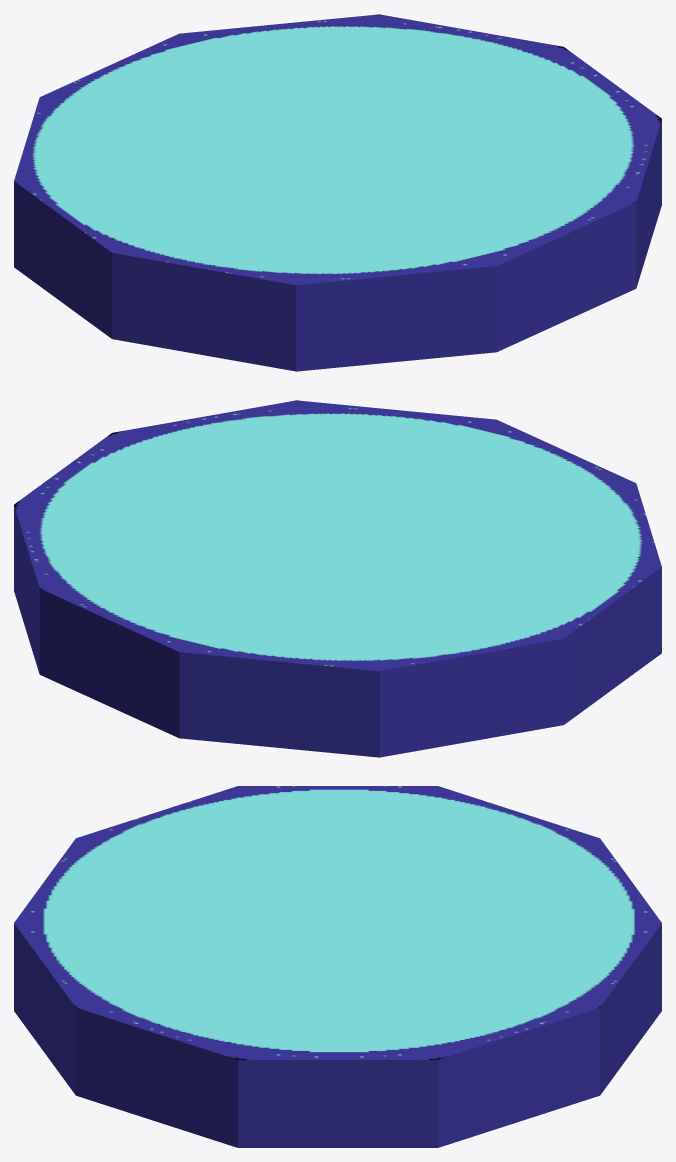
File: carrom_piece_striker.glb
3 views of the same model, one above another, from view 1: azimuth 30°, elevation 25°; view 2: azimuth 150°, elevation 25°; view 3: azimuth 270°, elevation 25° (orthographic). The views are drawn at different scales.
Parts seen in each view (by area): view 1: Cylinder; view 2: Cylinder; view 3: Cylinder.
Part boxes in pixels (x1=…): Cylinder: x1=14, y1=14, x2=661, y2=371; Cylinder: x1=14, y1=400, x2=661, y2=757; Cylinder: x1=14, y1=786, x2=661, y2=1147.
Size of the model in its own units: 1 by 0.15 by 1.
1 material, 1 textured.
